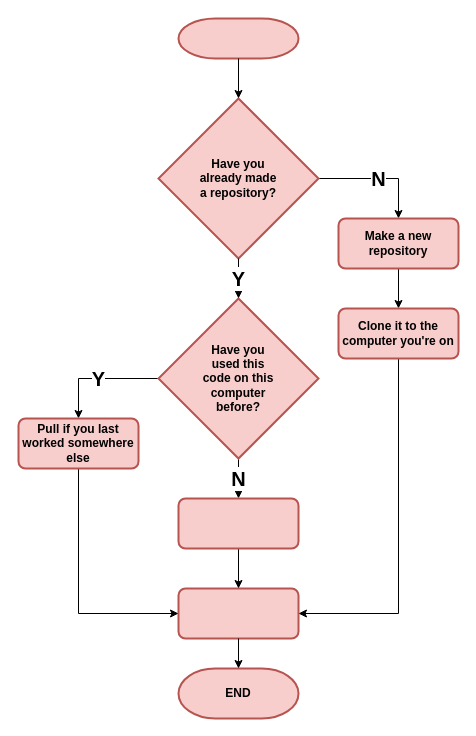
The diagram is 476 pixels wide and 736 high, and some of its shapes have lost their labels. Each missing label, with the box of its shape:
Clone to the new computer: (177, 497, 299, 549)
Commit and push before logging off: (177, 587, 299, 639)
START: (177, 17, 299, 59)
